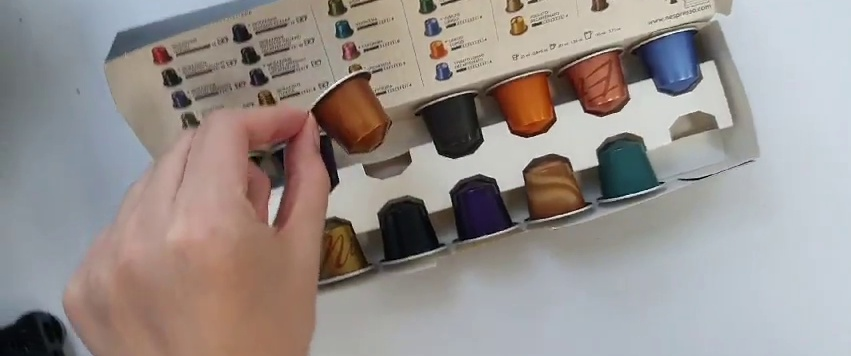capsule_3: (310, 69, 393, 156)
